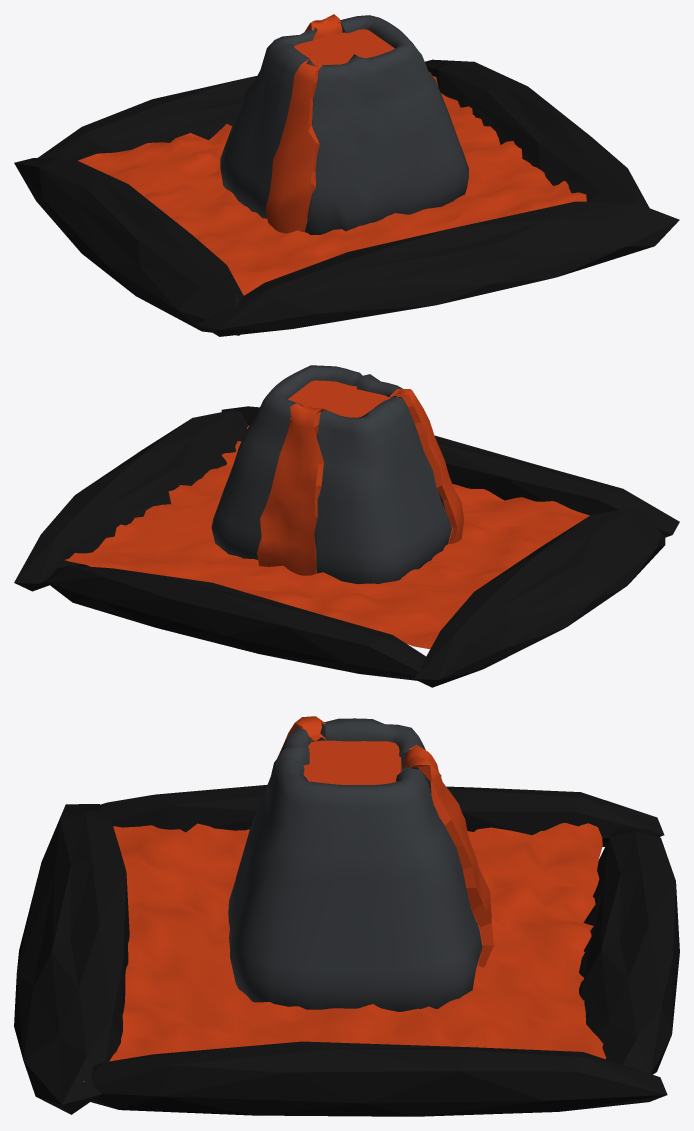
Rendered from vulcaoo.FBX.
3 views of the same model, one above another, from view 1: azimuth 30°, elevation 25°; view 2: azimuth 150°, elevation 25°; view 3: azimuth 270°, elevation 25° (orthographic). The views are drawn at different scales.
Visible parts, largest first — view 1: vulcao, PEdra003, Plane002, PEdra004, PEdra005, PEdra2, lava3, lava, lava2; view 2: Plane002, vulcao, PEdra004, PEdra2, PEdra005, PEdra003, lava2, lava3, lava; view 3: Plane002, vulcao, PEdra005, PEdra003, PEdra2, PEdra004, lava2, lava.
Boxes of the visible parts, bbox=[...] form: vulcao: bbox=[220, 15, 468, 234]; PEdra003: bbox=[199, 201, 679, 336]; Plane002: bbox=[78, 72, 586, 295]; PEdra004: bbox=[14, 158, 243, 335]; PEdra005: bbox=[425, 59, 649, 207]; PEdra2: bbox=[38, 76, 256, 160]; lava3: bbox=[265, 59, 322, 233]; lava: bbox=[294, 29, 394, 75]; lava2: bbox=[304, 14, 342, 39]; Plane002: bbox=[65, 425, 589, 649]; vulcao: bbox=[211, 365, 451, 583]; PEdra004: bbox=[414, 507, 665, 687]; PEdra2: bbox=[46, 565, 425, 680]; PEdra005: bbox=[14, 410, 248, 591]; PEdra003: bbox=[221, 406, 679, 537]; lava2: bbox=[256, 403, 326, 575]; lava3: bbox=[387, 389, 463, 543]; lava: bbox=[288, 380, 388, 430]; Plane002: bbox=[83, 822, 606, 1081]; vulcao: bbox=[228, 718, 482, 1011]; PEdra005: bbox=[91, 1041, 667, 1116]; PEdra003: bbox=[14, 804, 129, 1114]; PEdra2: bbox=[578, 828, 679, 1074]; PEdra004: bbox=[87, 785, 664, 846]; lava2: bbox=[404, 745, 493, 967]; lava: bbox=[303, 740, 401, 784].
Size of the model in its own units: 33.07 by 12.15 by 30.15.
